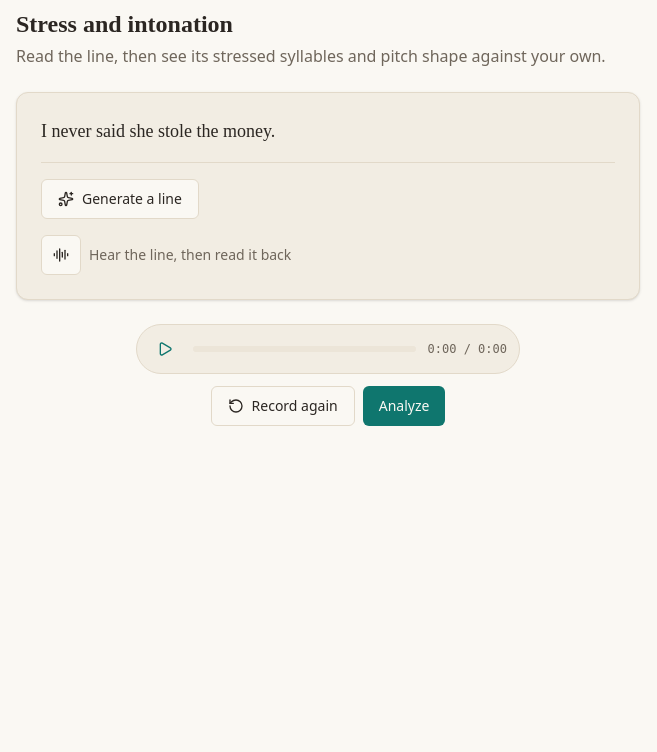
Test: StressIntonation › should draw the contour and mark the stressed syllable after analyzing
The width and height of the screenshot is (657, 752).
Step 1. Click the button "Analyze" → [404, 406], box 363,386 -> 445,426
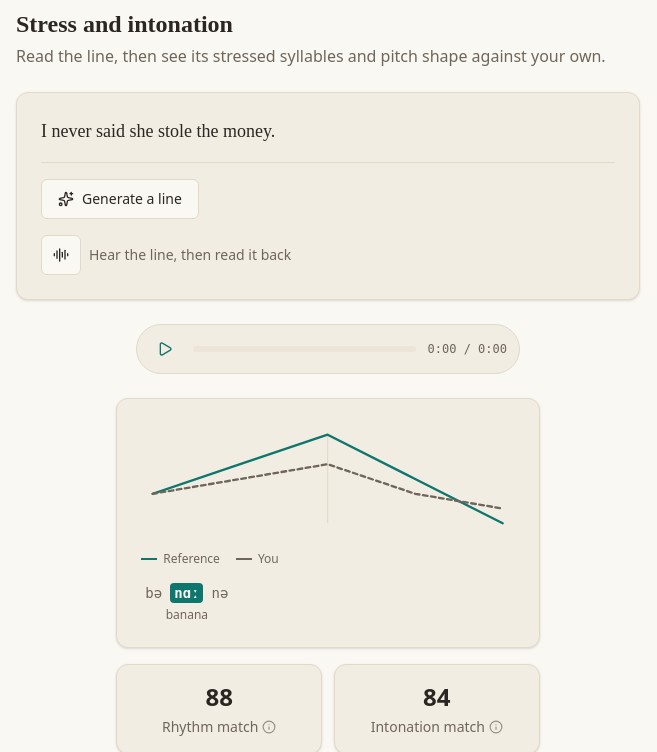
Expected: the picture named "pitch contour" is shown, 141,423 -> 515,535
